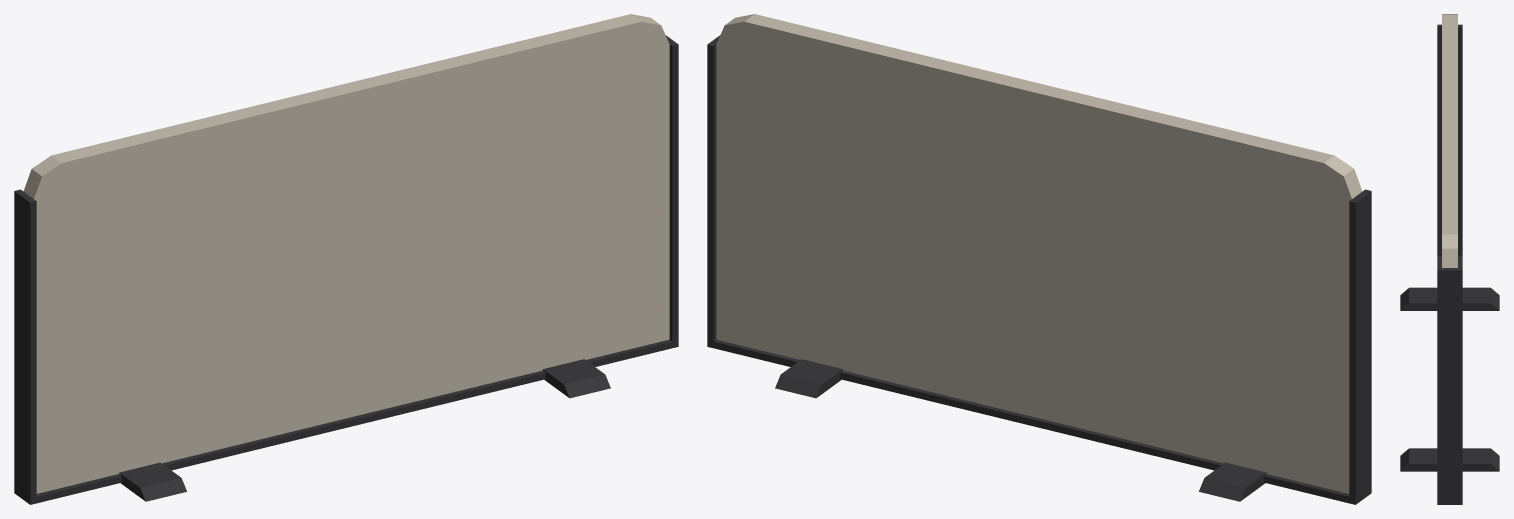
File: 08_divider_black_low.glb
3 views of the same model, side by side, from view 1: azimuth 30°, elevation 25°; view 2: azimuth 150°, elevation 25°; view 3: azimuth 270°, elevation 25° (orthographic). The views are drawn at different scales.
Visible parts, largest first — view 1: PartitionDestructible_Part_001, Panel_fragment_3, Panel_fragment_2, Panel_fragment_1, Attachment_02_fragment_3, Attachment_02, Attachment_02_fragment_1; view 2: PartitionDestructible_Part_001, Panel_fragment_3, Panel_fragment_2, Panel_fragment_1, Attachment_02_fragment_3, Attachment_02, Attachment_03_fragment_2, Attachment_02_fragment_2, Attachment_02_fragment_1; view 3: PartitionDestructible_Part_001, Panel_fragment_2, Panel_fragment_3, Attachment_03_fragment_2, Attachment_02_fragment_1, Panel_fragment_1, Attachment_01.
Boxes of the visible parts, <box> form: PartitionDestructible_Part_001: <box>14,14,678,504</box>; Panel_fragment_3: <box>440,16,669,381</box>; Panel_fragment_2: <box>179,60,477,446</box>; Panel_fragment_1: <box>24,125,228,493</box>; Attachment_02_fragment_3: <box>496,38,678,388</box>; Attachment_02: <box>14,191,311,504</box>; Attachment_02_fragment_1: <box>17,189,228,504</box>; PartitionDestructible_Part_001: <box>707,14,1371,504</box>; Panel_fragment_3: <box>716,14,945,382</box>; Panel_fragment_2: <box>895,60,1207,431</box>; Panel_fragment_1: <box>1196,124,1352,493</box>; Attachment_02_fragment_3: <box>707,36,889,389</box>; Attachment_02: <box>707,36,1011,416</box>; Attachment_03_fragment_2: <box>775,360,1266,501</box>; Attachment_02_fragment_2: <box>890,385,1158,454</box>; Attachment_02_fragment_1: <box>1157,189,1371,500</box>; PartitionDestructible_Part_001: <box>1400,14,1499,504</box>; Panel_fragment_2: <box>1442,63,1457,162</box>; Panel_fragment_3: <box>1442,162,1457,248</box>; Attachment_03_fragment_2: <box>1400,292,1499,471</box>; Attachment_02_fragment_1: <box>1437,27,1462,267</box>; Panel_fragment_1: <box>1442,15,1457,62</box>; Attachment_01: <box>1400,297,1497,310</box>.
Bounding box in the file's own units: 3.06 × 1.5 × 0.523.
